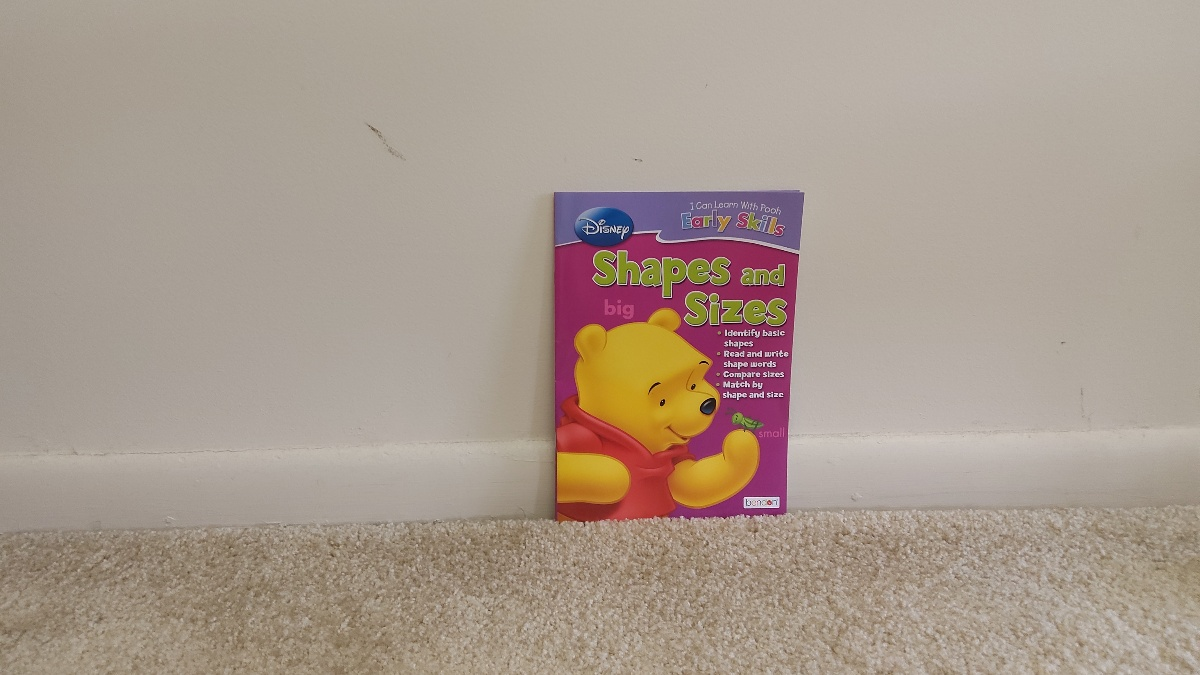book: (553, 193, 784, 516)
